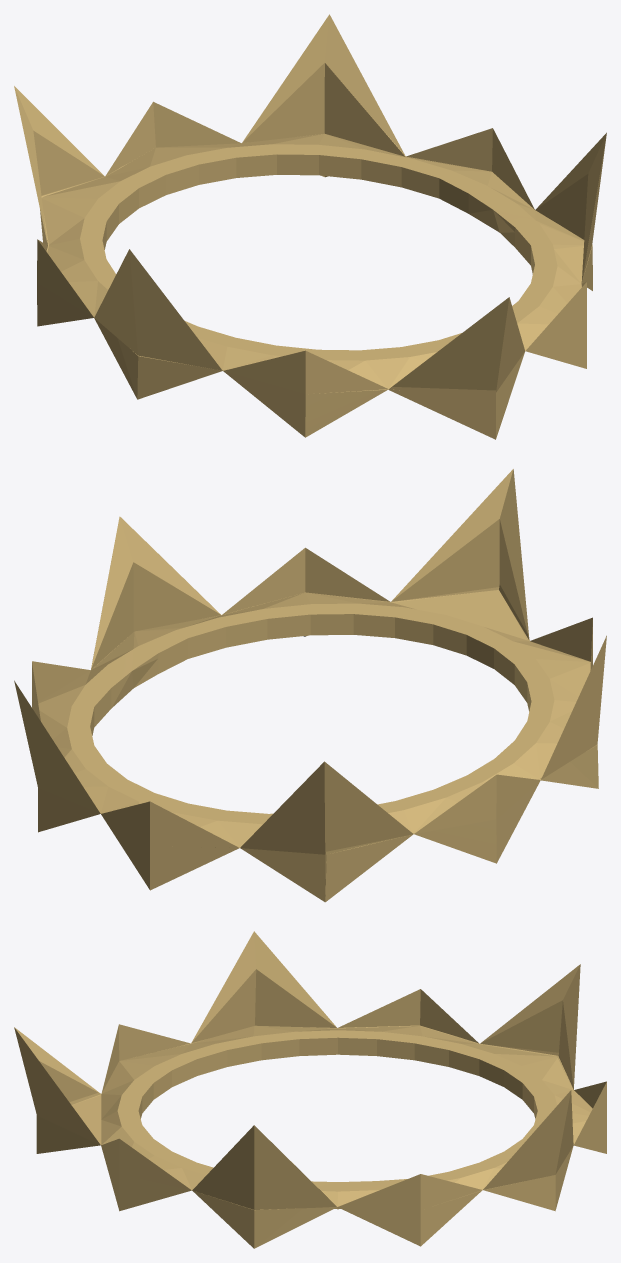
File: item.obj
3 views of the same model, one above another, from view 1: azimuth 30°, elevation 25°; view 2: azimuth 150°, elevation 25°; view 3: azimuth 270°, elevation 25° (orthographic). The views are drawn at different scales.
Parts seen in each view (by area): view 1: head; view 2: head; view 3: head.
Boxes of the visible parts, bbox=[...] form: head: bbox=[14, 14, 606, 439]; head: bbox=[14, 469, 606, 902]; head: bbox=[14, 931, 606, 1248].
Size of the model in its own units: 0.786 by 0.2448 by 1.02.
